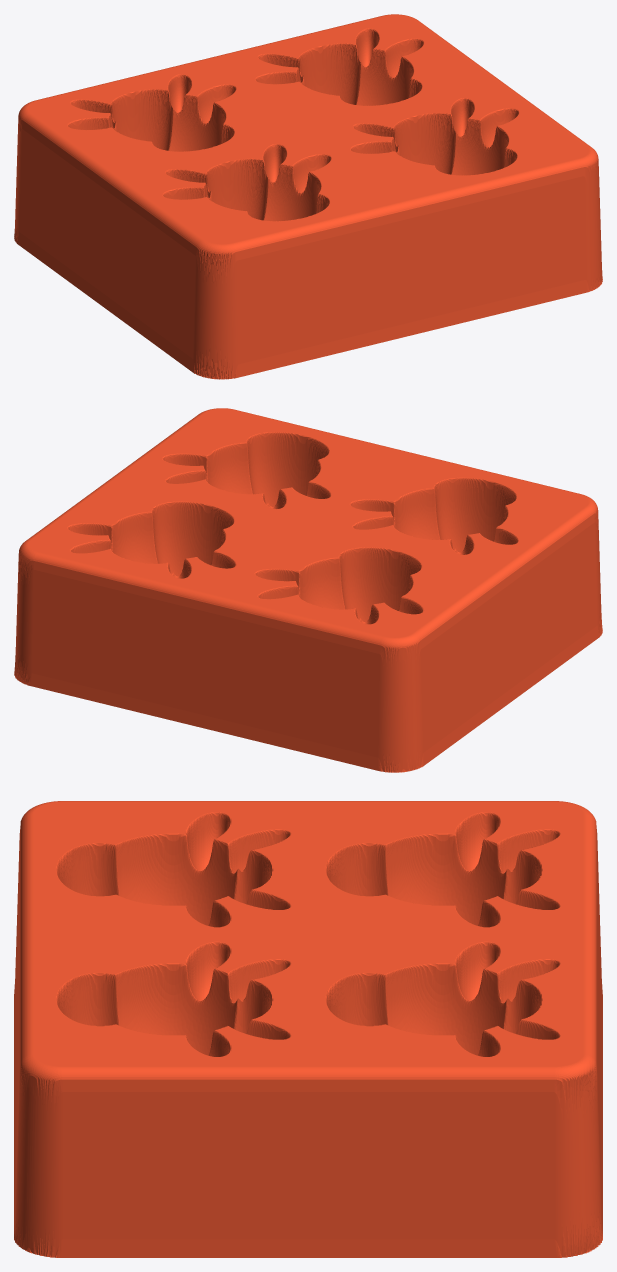
The model's file is mold.glb.
The picture shows the model from 3 angles, top to bottom: view 1: azimuth 30°, elevation 25°; view 2: azimuth 150°, elevation 25°; view 3: azimuth 270°, elevation 25°; orthographic projection. The views are drawn at different scales.
Parts seen in each view (by area): view 1: geometry_0; view 2: geometry_0; view 3: geometry_0.
Boxes of the visible parts, left/top/right/bottom form: geometry_0: left=14, top=14, right=602, bottom=379; geometry_0: left=14, top=408, right=602, bottom=772; geometry_0: left=14, top=801, right=602, bottom=1257.
Size of the model in its own units: 0.124 by 0.0377 by 0.1099.
